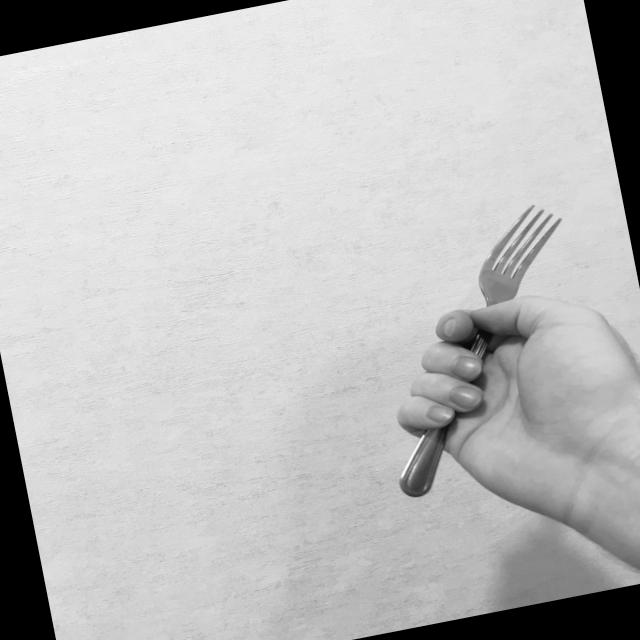fork: (352, 198, 610, 502)
